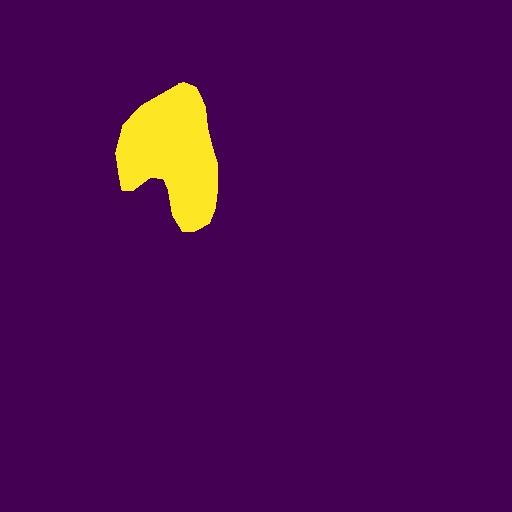Gliomia_tumour: (115, 82, 218, 232)
